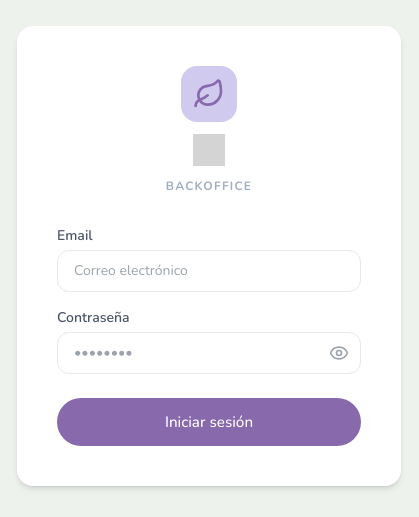
BackofficeLogin › muestra error de validación si la contraseña está vacía
The width and height of the screenshot is (419, 517).
Type "admin@huly.com" into the field with placeholder "Correo electrónico" at (209,271), box [57,250,361,292]
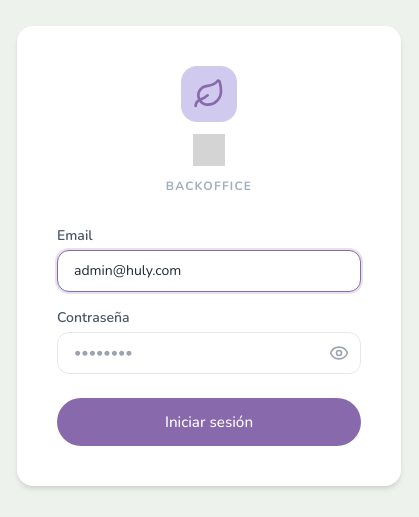
Click the button "Iniciar sesión" at (209,422), box [57,398,361,446]
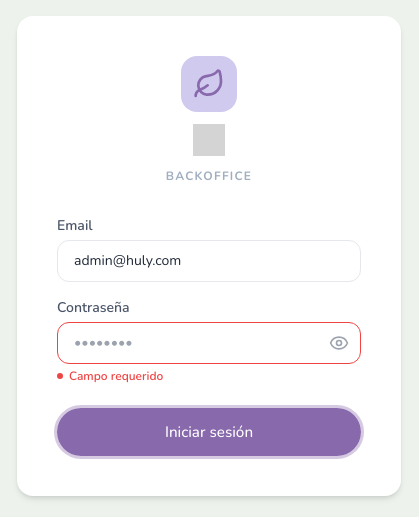
Check: the text "Campo requerido" is shown, box [57,368,163,384]
